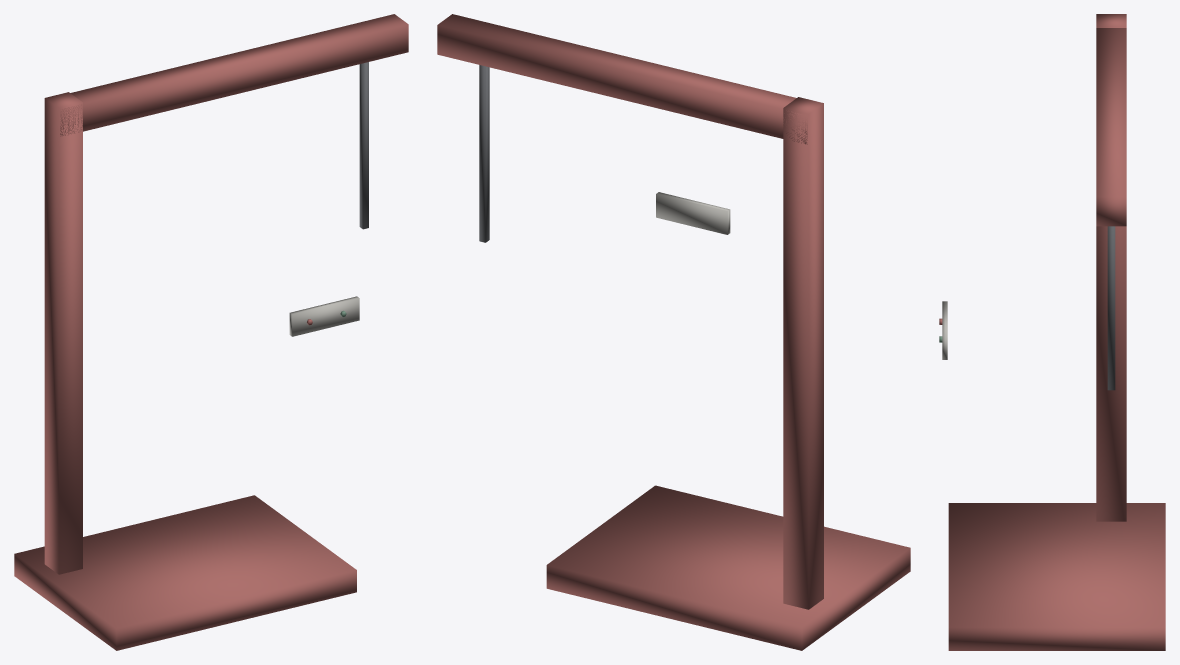
Rendered from engine_hoist__compact.glb.
The picture shows the model from 3 angles, left to right: view 1: azimuth 30°, elevation 25°; view 2: azimuth 150°, elevation 25°; view 3: azimuth 270°, elevation 25°; orthographic projection. The views are drawn at different scales.
Visible parts, largest first — view 1: world; view 2: world; view 3: world.
Boxes of the visible parts, box(x1,y1,x2,y2) form: world: box(14, 14, 408, 650); world: box(437, 14, 910, 650); world: box(939, 14, 1165, 650).
Bounding box in the file's own units: 1.26 × 1.63 × 0.6459.
